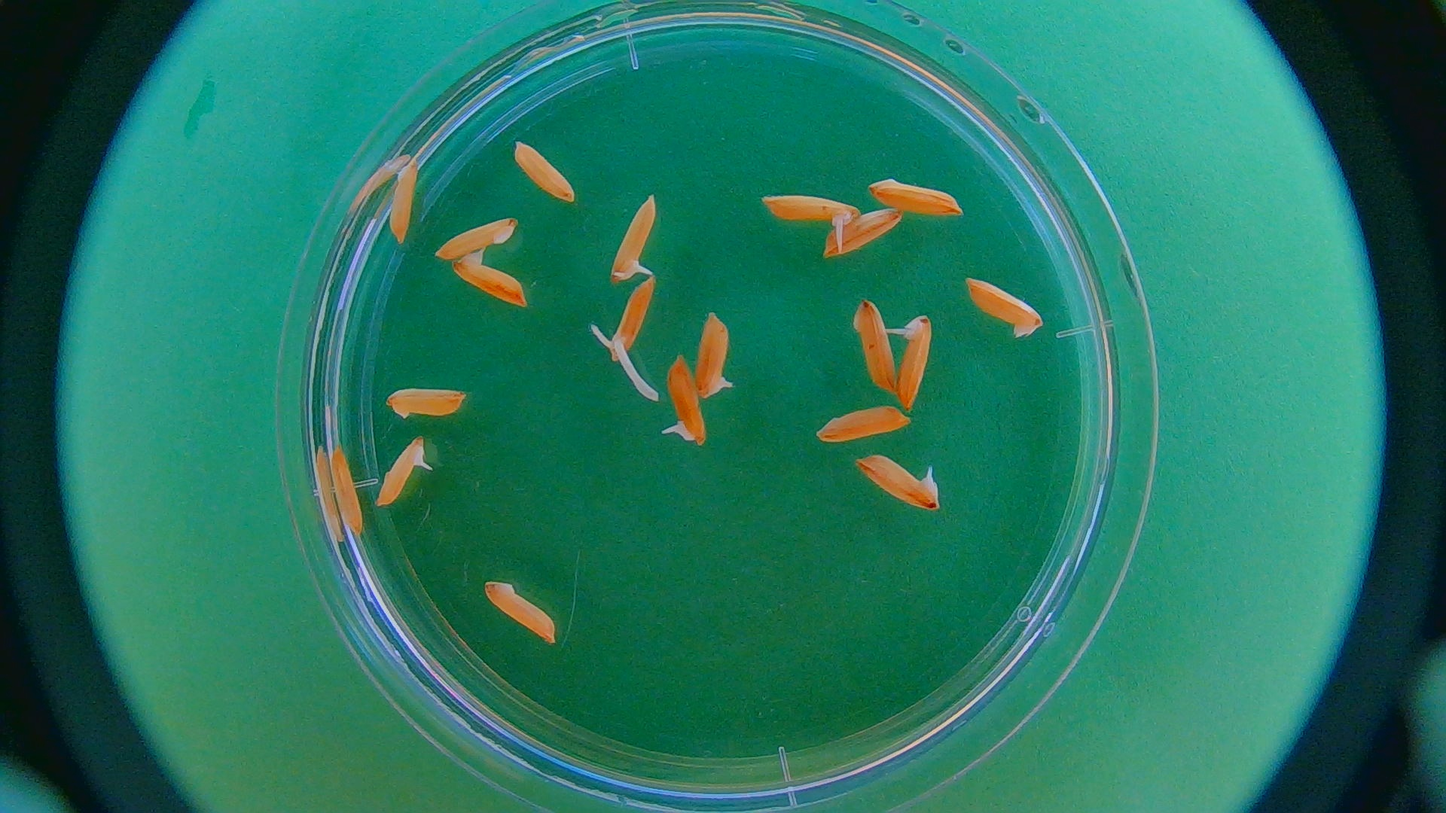no: (958, 268, 1054, 340), (446, 243, 532, 310), (845, 291, 897, 397), (509, 133, 581, 209), (477, 583, 561, 644), (811, 399, 911, 446), (819, 205, 906, 259), (866, 173, 966, 217), (321, 437, 365, 536), (429, 216, 523, 261), (386, 154, 431, 245), (380, 380, 470, 425)
yes: (853, 453, 939, 512), (606, 279, 658, 361), (689, 311, 734, 400), (374, 439, 431, 508), (666, 358, 711, 445), (611, 203, 657, 286), (763, 192, 854, 231), (895, 314, 932, 407)
